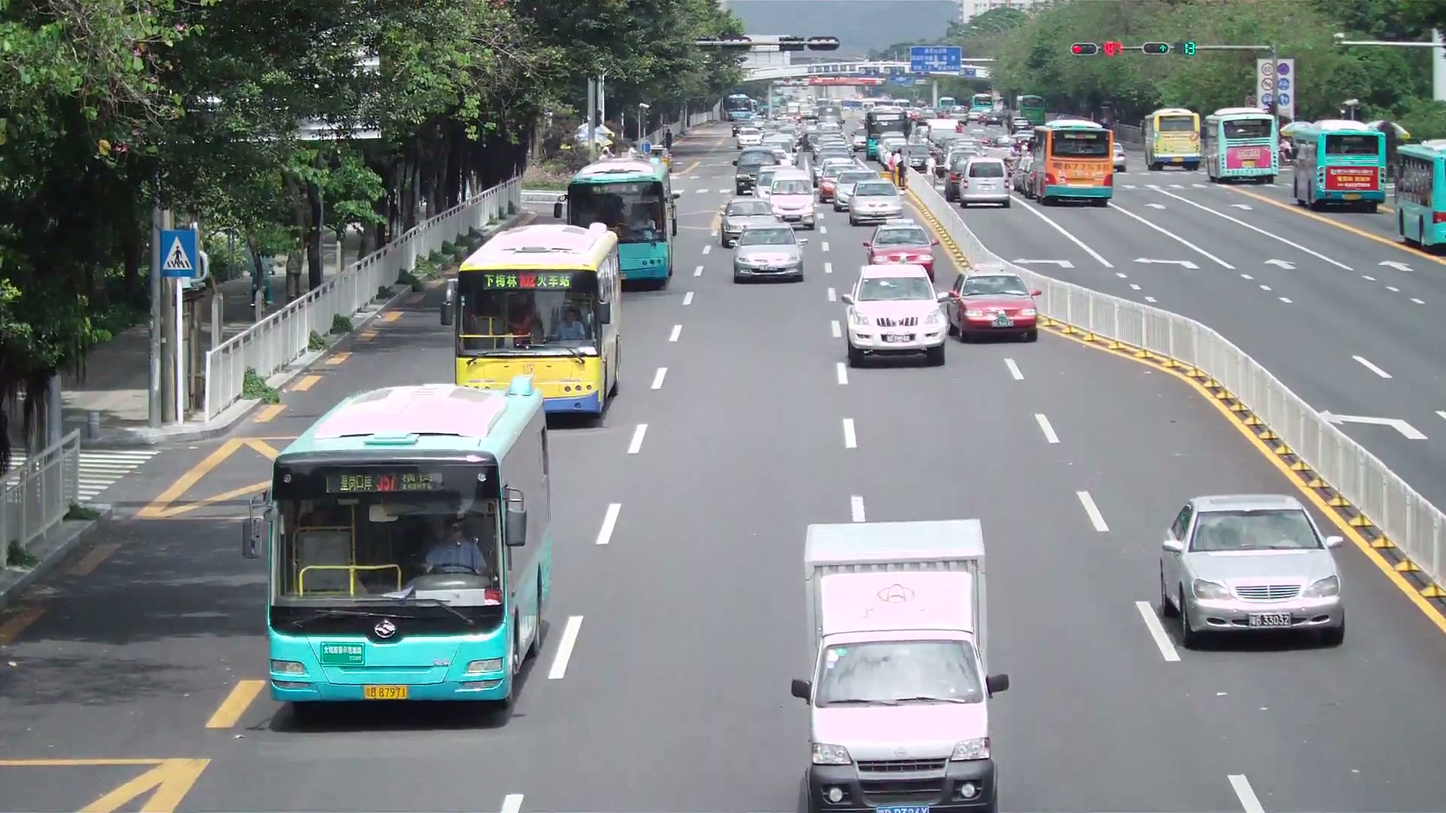bus: (242, 378, 555, 709), (451, 219, 625, 424), (564, 157, 677, 290), (1285, 118, 1391, 209), (1030, 117, 1115, 205), (1394, 137, 1445, 253), (1204, 108, 1280, 183), (1144, 108, 1202, 171)
car: (1156, 492, 1347, 649), (841, 263, 948, 367), (948, 269, 1039, 343), (863, 222, 939, 280), (732, 225, 805, 283), (718, 194, 779, 248), (955, 158, 1012, 211), (766, 177, 818, 232), (845, 179, 903, 225)
pedestrian: (422, 517, 489, 576)
truck: (791, 519, 1008, 810)
